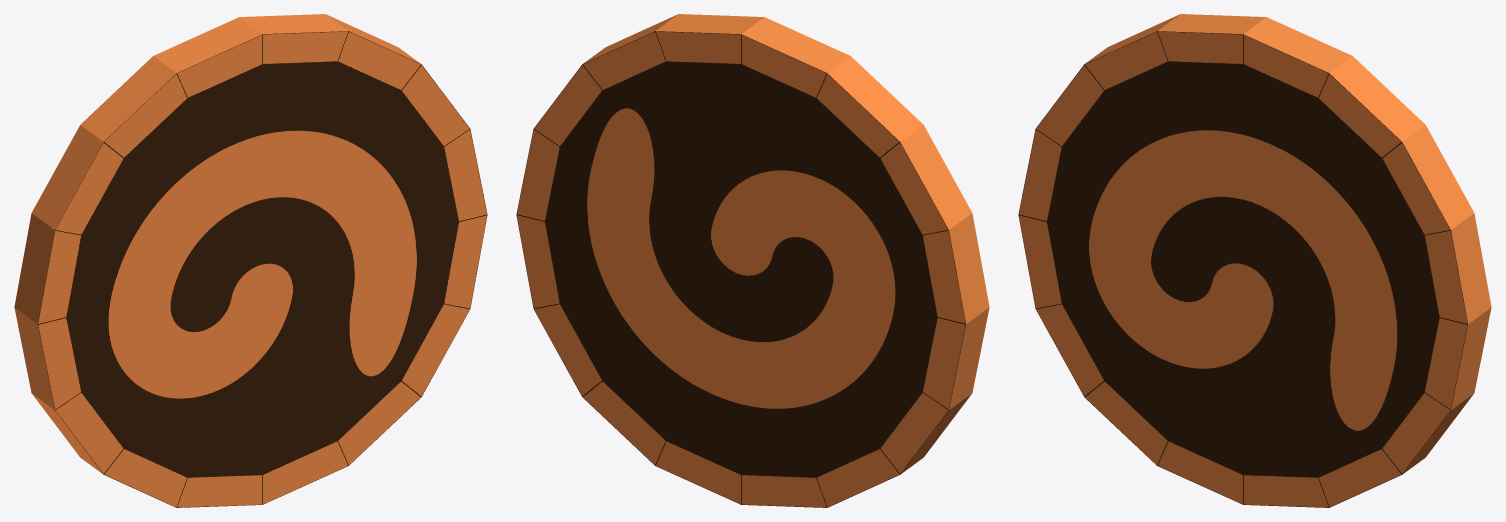
Rendered from Slowdown.fbx.
3 views of the same model, side by side, from view 1: azimuth 30°, elevation 25°; view 2: azimuth 150°, elevation 25°; view 3: azimuth 330°, elevation 25° (orthographic).
Parts seen in each view (by area): view 1: Slowdown; view 2: Slowdown; view 3: Slowdown.
Part boxes in pixels (box(x1,y1,x2,y2)): Slowdown: box(14, 14, 487, 507); Slowdown: box(516, 14, 989, 507); Slowdown: box(1018, 14, 1491, 507).
Bounding box in the file's own units: 30.36 × 30.36 × 2.74.
